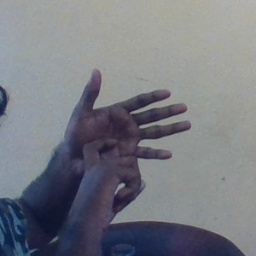R: (52, 63, 195, 220)
